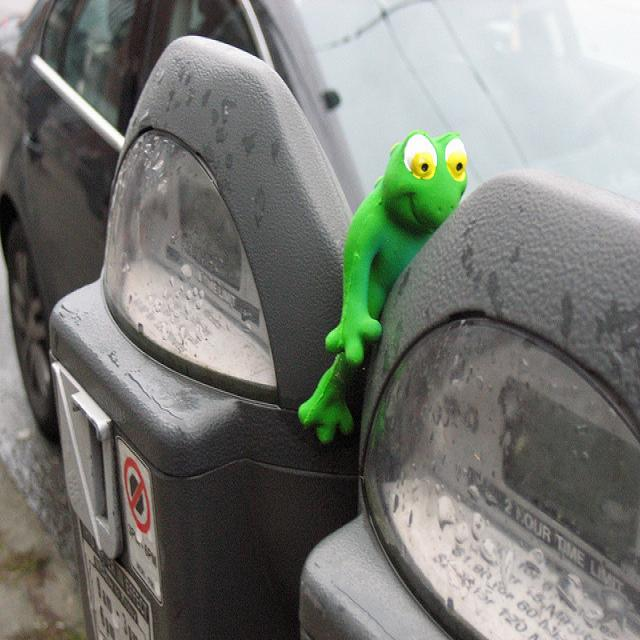Vehicle: (0, 2, 359, 426)
